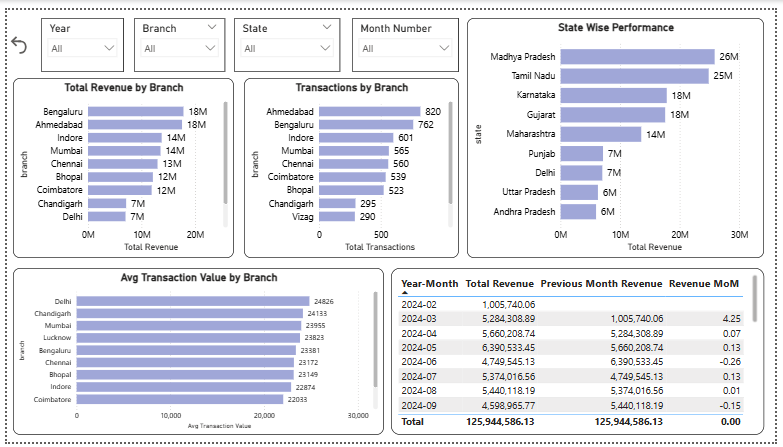

The page's visual inventory and layout, read from the dashboard file:
{"tool":"powerbi","page":{"name":"Branch Performance","canvas":[1280,720],"ordinal":3},"visuals":[{"type":"clusteredBarChart","title":"Total Revenue by Branch","fields":{"Category":["branches.branch"],"Y":["transactions.Total Revenue"]},"box":[10,113.3,368.3,300],"z":0},{"type":"clusteredBarChart","title":"Transactions by Branch","fields":{"Category":["branches.branch"],"Y":["transactions.Total Transactions"]},"box":[395,113.3,358.3,300],"z":1000},{"type":"clusteredBarChart","title":"State Wise Performance","fields":{"Category":["branches.state"],"Y":["transactions.Total Revenue"]},"box":[766.7,13.3,495,400],"z":2000},{"type":"tableEx","fields":{"Values":["date.Year-Month","transactions.Total Revenue","transactions.Previous Month Revenue","transactions.Revenue MoM"]},"box":[640,430,621.7,278.3],"z":3000},{"type":"slicer","fields":{"Values":["date.Month Number"]},"box":[575,13.3,178.3,90],"z":5000},{"type":"slicer","fields":{"Values":["date.Year"]},"box":[56.7,13.3,138.3,90],"z":6000},{"type":"slicer","fields":{"Values":["branches.branch"]},"box":[211.7,13.3,151.7,90],"z":7000},{"type":"slicer","fields":{"Values":["branches.state"]},"box":[378.3,13.3,176.7,90],"z":8000},{"type":"actionButton","box":[0,38.2,55.8,39.7],"z":9000},{"type":"clusteredBarChart","title":"Avg Transaction Value by Branch","fields":{"Category":["branches.branch"],"Y":["transactions.Avg Transaction Value"]},"box":[10,430,618.3,278.3],"z":9001}]}

Visuals, with their boxes in screenshot pixels (x1, y1, x2, y2), scaled from the page's 1280x720 canvas onto the 783x447 screenshot:
"Total Revenue by Branch" clusteredBarChart: BBox(6, 70, 231, 257)
"Transactions by Branch" clusteredBarChart: BBox(242, 70, 461, 257)
"State Wise Performance" clusteredBarChart: BBox(469, 8, 772, 257)
tableEx - date.Year-Month x transactions.Total Revenue: BBox(392, 267, 772, 440)
slicer - date.Month Number: BBox(352, 8, 461, 64)
slicer - date.Year: BBox(35, 8, 119, 64)
slicer - branches.branch: BBox(130, 8, 222, 64)
slicer - branches.state: BBox(231, 8, 340, 64)
actionButton: BBox(0, 24, 34, 48)
"Avg Transaction Value by Branch" clusteredBarChart: BBox(6, 267, 384, 440)
